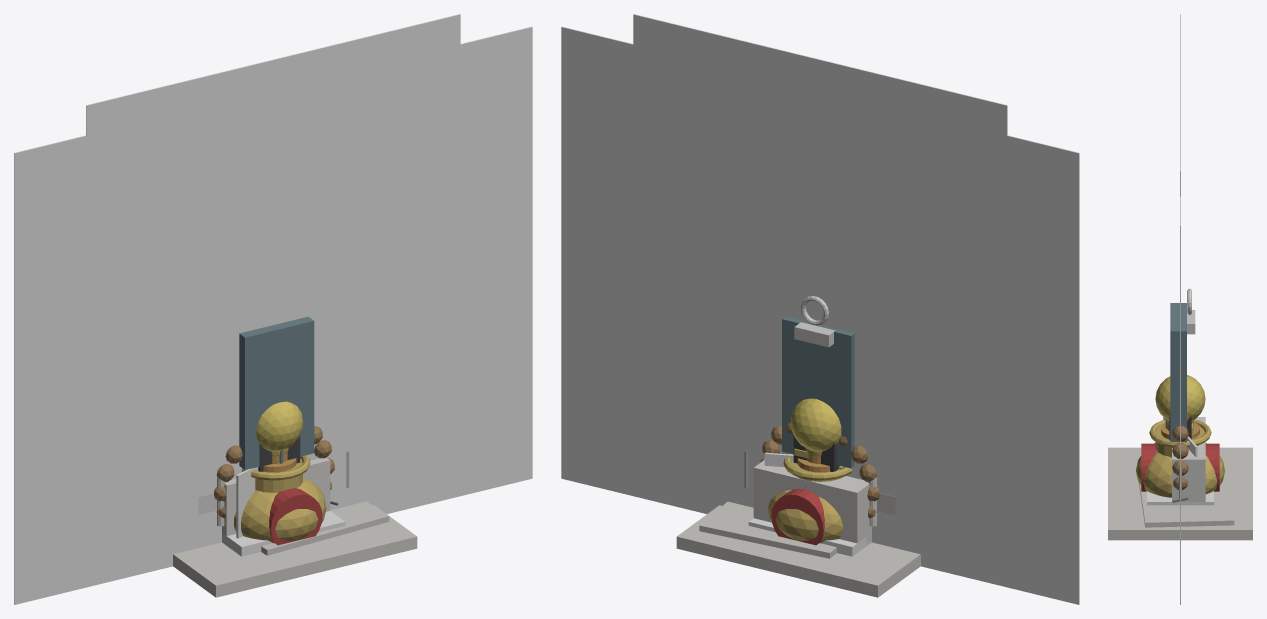
The model's file is props_small.glb.
The picture shows the model from 3 angles, left to right: view 1: azimuth 30°, elevation 25°; view 2: azimuth 150°, elevation 25°; view 3: azimuth 270°, elevation 25°; orthographic projection. The views are drawn at different scales.
Parts seen in each view (by area): view 1: 01_blood_puddle_decal, 02_bloody_handprint_decal, 03_wall_scratch_decal, 10_baby_cloth, 08_iv_fluid_bag, 20_brass_lota, 28_emergency_red_light, 11_baby_rattle, 19_rudraksha_mala, 21_mantra_book, 23_nurse_note, 30_mirror_shard (+1 smaller); view 2: 01_blood_puddle_decal, 02_bloody_handprint_decal, 03_wall_scratch_decal, 10_baby_cloth, 08_iv_fluid_bag, 28_emergency_red_light, 20_brass_lota, 11_baby_rattle, 23_nurse_note, 19_rudraksha_mala, 21_mantra_book, 04_syringe; view 3: 10_baby_cloth, 20_brass_lota, 08_iv_fluid_bag, 28_emergency_red_light, 11_baby_rattle, 19_rudraksha_mala, 21_mantra_book, 01_blood_puddle_decal, 07_medicine_bottle.
Boxes of the visible parts, x1,y1,x2,y2 form: 01_blood_puddle_decal: (14,26,532,604); 02_bloody_handprint_decal: (115,59,431,568); 03_wall_scratch_decal: (86,14,460,544); 10_baby_cloth: (173,501,417,597); 08_iv_fluid_bag: (239,316,314,469); 20_brass_lota: (234,455,326,543); 28_emergency_red_light: (222,457,330,545); 11_baby_rattle: (256,401,303,451); 19_rudraksha_mala: (214,426,334,518); 21_mantra_book: (222,511,345,556); 23_nurse_note: (222,406,241,479); 30_mirror_shard: (236,467,258,538); 01_blood_puddle_decal: (561,26,1079,604); 02_bloody_handprint_decal: (662,53,978,580); 03_wall_scratch_decal: (633,14,1007,511); 10_baby_cloth: (676,501,920,597); 08_iv_fluid_bag: (782,296,854,468); 28_emergency_red_light: (753,460,871,546); 20_brass_lota: (768,453,852,543); 11_baby_rattle: (790,398,841,451); 23_nurse_note: (768,385,871,479); 19_rudraksha_mala: (760,423,879,518); 21_mantra_book: (748,518,869,556); 04_syringe: (744,451,895,526); 10_baby_cloth: (1108,447,1252,540); 20_brass_lota: (1136,419,1224,497); 08_iv_fluid_bag: (1165,288,1195,442); 28_emergency_red_light: (1141,417,1219,501); 11_baby_rattle: (1155,375,1205,420); 19_rudraksha_mala: (1172,413,1188,489); 21_mantra_book: (1147,491,1213,505); 01_blood_puddle_decal: (1180,14,1180,604); 07_medicine_bottle: (1161,422,1199,439).
Bounding box in the file's own units: 0.9 × 0.8 × 0.26.
